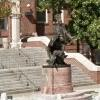Statue: (37, 18, 74, 66)
